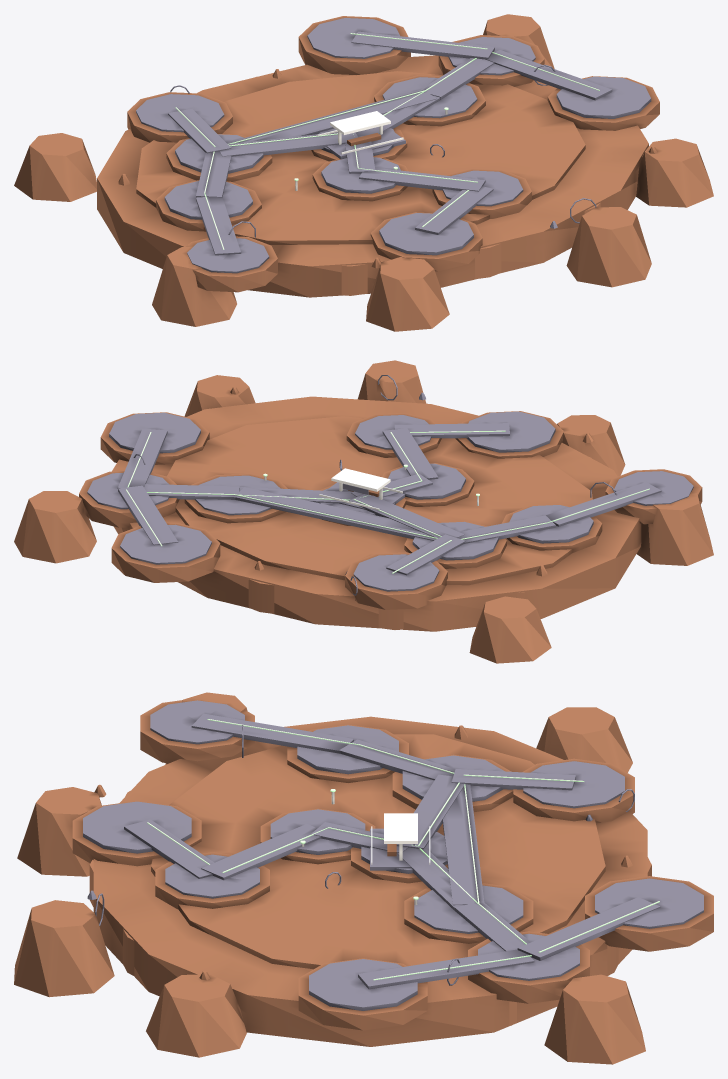
Rendered from terrain.glb.
3 views of the same model, one above another, from view 1: azimuth 30°, elevation 25°; view 2: azimuth 150°, elevation 25°; view 3: azimuth 270°, elevation 25° (orthographic). The views are drawn at different scales.
Visible parts, largest first — view 1: terrain:near:merged, terrain:far:surface:0; view 2: terrain:near:merged, terrain:far:surface:0; view 3: terrain:near:merged, terrain:far:surface:0.
Part boxes in pixels (left/top/right/bottom): terrain:near:merged: left=14, top=14, right=713, bottom=331; terrain:far:surface:0: left=256, top=76, right=643, bottom=295; terrain:near:merged: left=14, top=360, right=713, bottom=663; terrain:far:surface:0: left=248, top=457, right=590, bottom=629; terrain:near:merged: left=14, top=692, right=713, bottom=1064; terrain:far:surface:0: left=89, top=790, right=651, bottom=1025.
Size of the model in its own units: 103 by 12.42 by 92.93.
